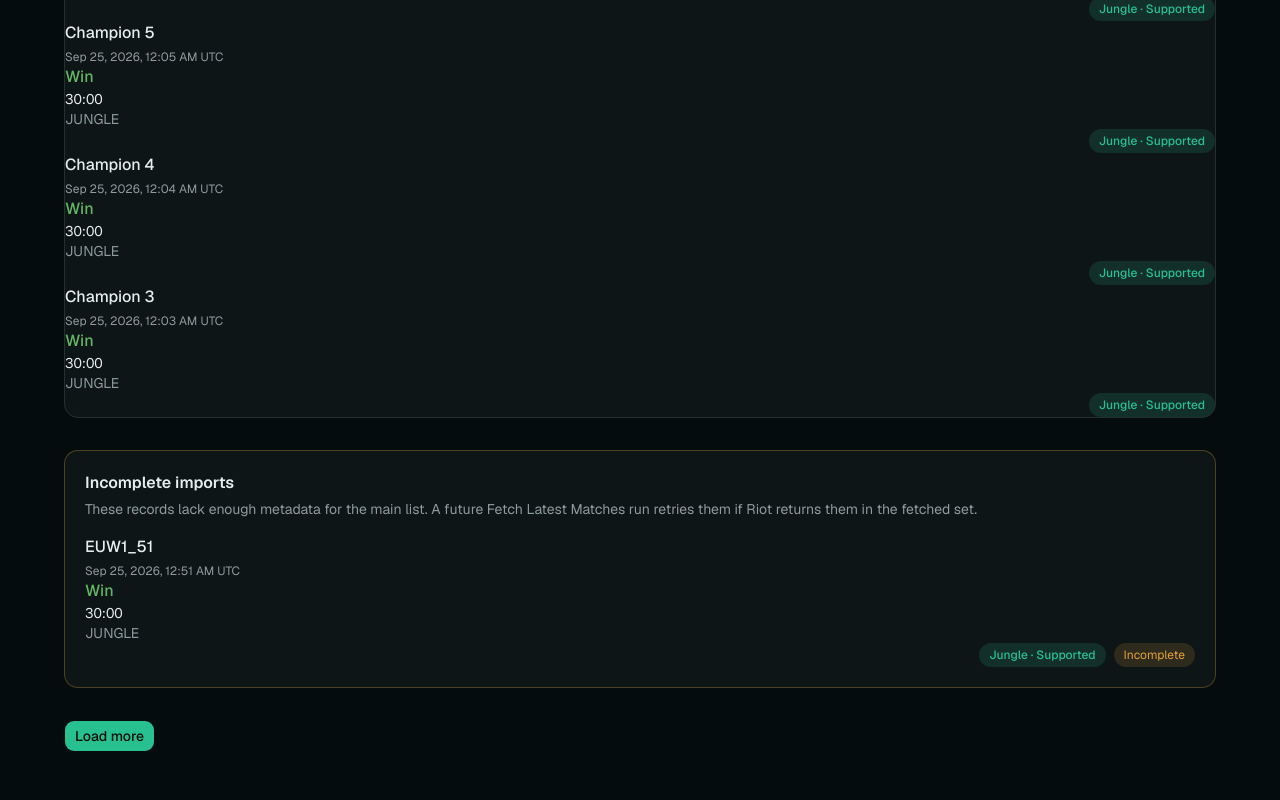
Test case: shows the stored total and appends the next combined page without duplicates
The image size is (1280, 800).
(page scrolled)
Click the button "Load more" at (110, 736), box left=64, top=720, right=155, bottom=752
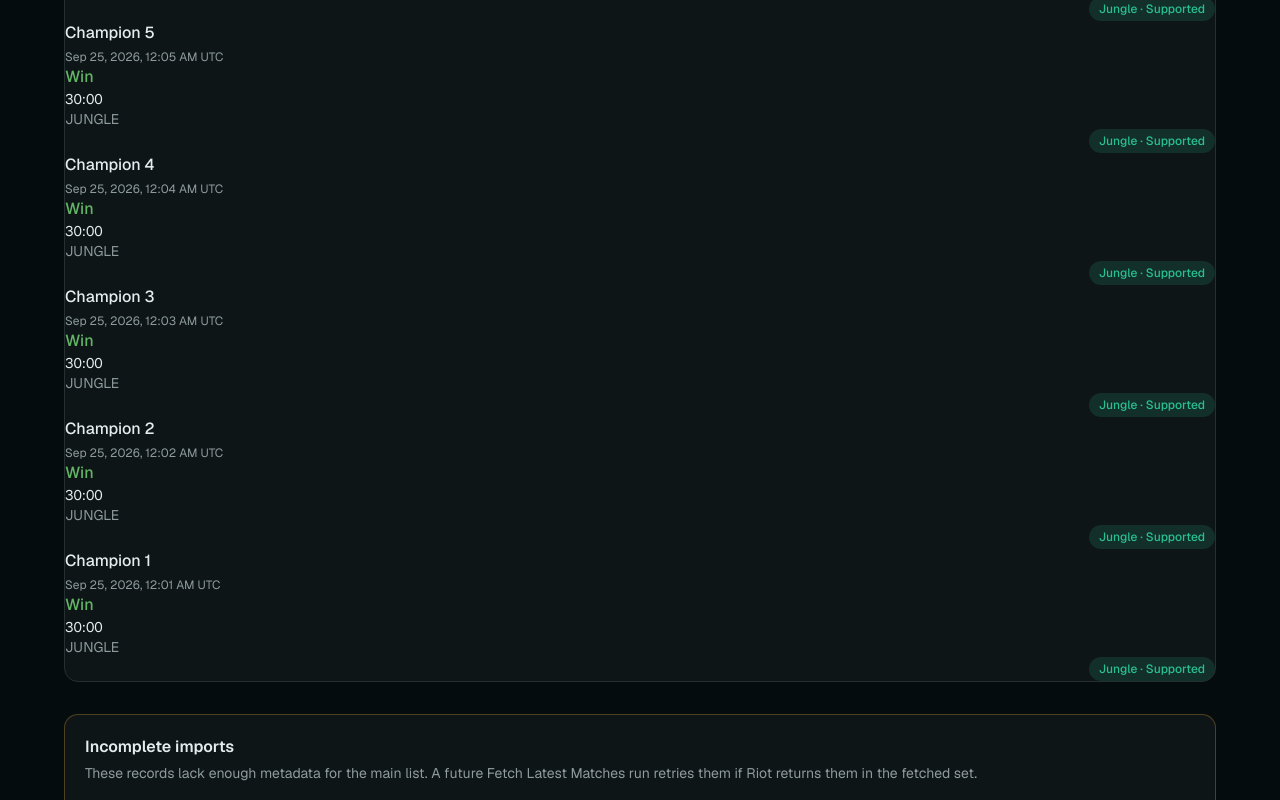
Result: the text "Champion 2" is shown at left=65, top=418, right=155, bottom=439
Result: the button "Load more" is gone
